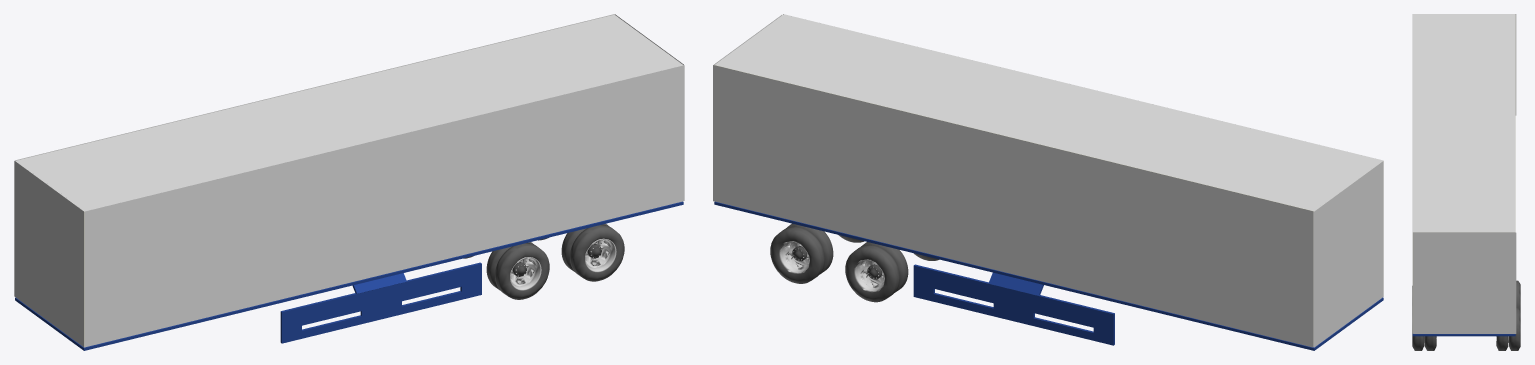
Rendered from trailer.dae.
3 views of the same model, side by side, from view 1: azimuth 30°, elevation 25°; view 2: azimuth 150°, elevation 25°; view 3: azimuth 270°, elevation 25° (orthographic). The views are drawn at different scales.
Parts seen in each view (by area): view 1: Plane_001, Plane, Plane_005, Cube_008, Cube_001, tire25_001, tire25, Plane_002, rim3, rim3_001, Cube_009; view 2: Plane_002, Plane, Plane_005, Cube_002, Cube_001, tire35, tire35_001, Cube, Cube_010, rim14, rim14_001; view 3: Plane, Plane_012, Cube, Cube_001, tire35, Plane_004, tire25, tire36, tire26, tire35_001.
Part boxes in pixels (bbox=[...]): Plane_001: bbox=[85, 65, 684, 347]; Plane: bbox=[15, 14, 683, 211]; Plane_005: bbox=[14, 161, 83, 346]; Cube_008: bbox=[280, 262, 481, 343]; Cube_001: bbox=[15, 201, 683, 350]; tire25_001: bbox=[495, 242, 549, 299]; tire25: bbox=[570, 224, 624, 281]; Plane_002: bbox=[15, 14, 614, 160]; rim3: bbox=[585, 238, 616, 272]; rim3_001: bbox=[510, 257, 541, 290]; Cube_009: bbox=[352, 273, 406, 293]; Plane_002: bbox=[713, 65, 1312, 347]; Plane: bbox=[715, 14, 1383, 210]; Plane_005: bbox=[1314, 161, 1383, 347]; Cube_002: bbox=[913, 264, 1114, 345]; Cube_001: bbox=[714, 201, 1383, 350]; tire35: bbox=[770, 226, 824, 283]; tire35_001: bbox=[845, 245, 899, 302]; Cube: bbox=[714, 65, 1383, 346]; Cube_010: bbox=[988, 272, 1043, 295]; rim14: bbox=[779, 241, 809, 273]; rim14_001: bbox=[854, 259, 884, 292]; Plane: bbox=[1412, 14, 1515, 232]; Plane_012: bbox=[1413, 232, 1516, 333]; Cube: bbox=[1412, 14, 1515, 333]; Cube_001: bbox=[1412, 334, 1515, 336]; tire35: bbox=[1509, 308, 1520, 350]; Plane_004: bbox=[1515, 14, 1516, 115]; tire25: bbox=[1412, 313, 1424, 350]; tire36: bbox=[1496, 336, 1508, 350]; tire26: bbox=[1424, 336, 1436, 350]; tire35_001: bbox=[1516, 280, 1520, 311].
Size of the model in its own units: 12.02 by 2.52 by 3.76.
